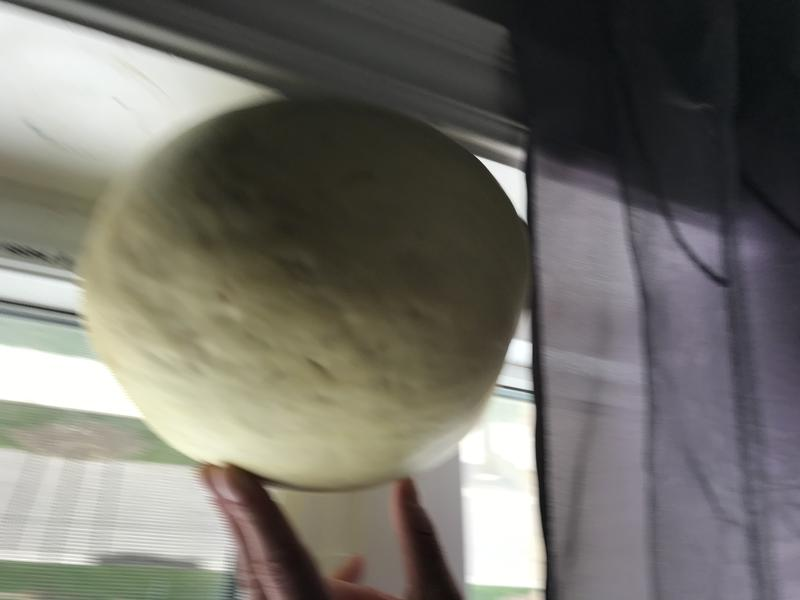honeydew: (68, 88, 538, 506)
